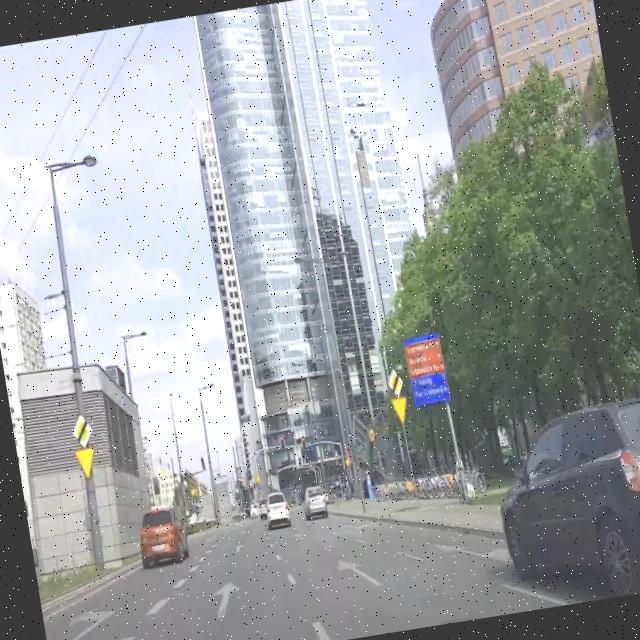Ustap pierwszenstwa: (74, 446, 98, 481), (390, 395, 410, 426), (190, 488, 196, 498), (256, 474, 260, 484)
